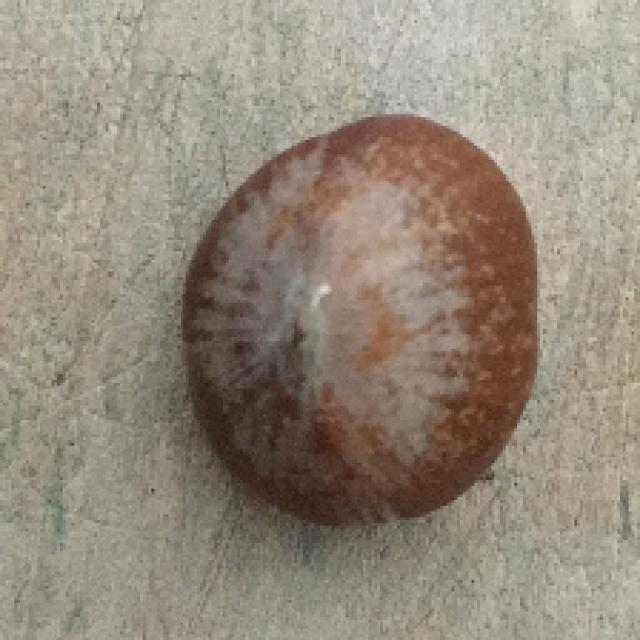qualityHazelnut: (179, 113, 539, 524)
